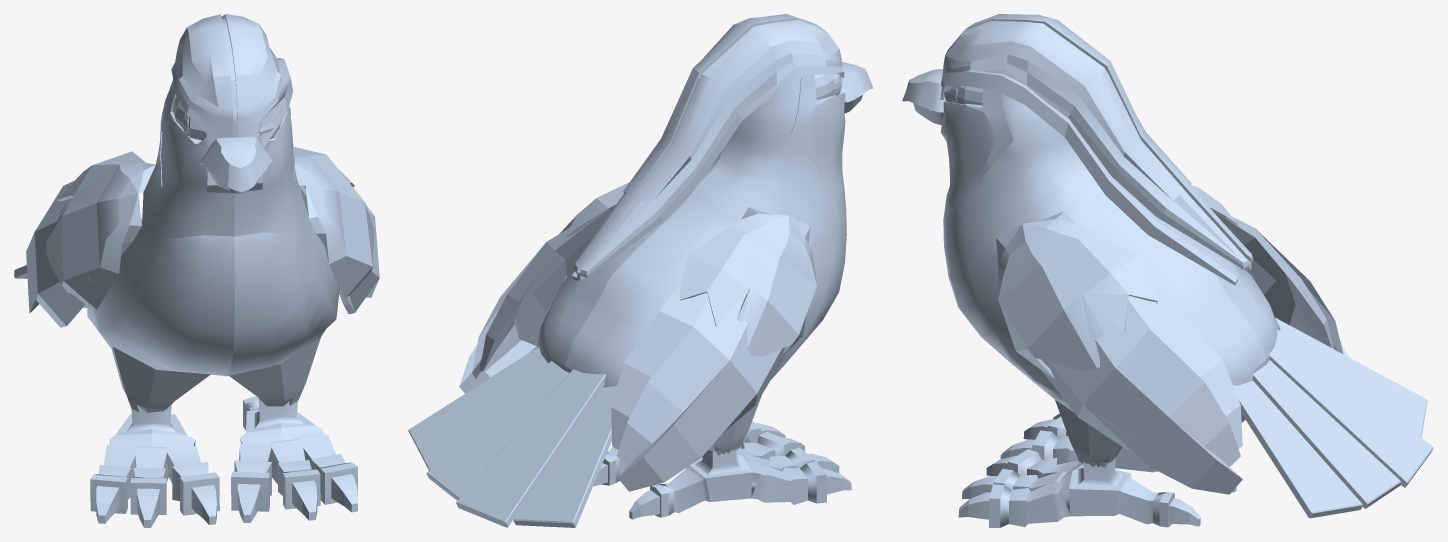
The model's file is pidgeotto.glb.
3 renders of one model, left to right at view 1: azimuth 30°, elevation 25°; view 2: azimuth 150°, elevation 25°; view 3: azimuth 270°, elevation 25°, orthographic. The views are drawn at different scales.
Visible parts, largest first — view 1: Node; view 2: Node; view 3: Node.
Part boxes in pixels (left/top/right/bottom): Node: left=14, top=14, right=379, bottom=527; Node: left=408, top=14, right=873, bottom=527; Node: left=902, top=14, right=1433, bottom=527.
Bounding box in the file's own units: 12.79 × 16.65 × 17.51.
